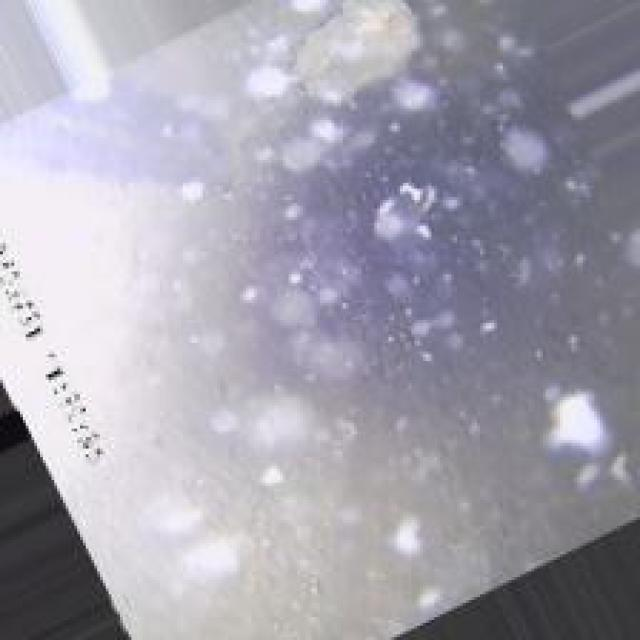stone: (286, 3, 428, 103)
